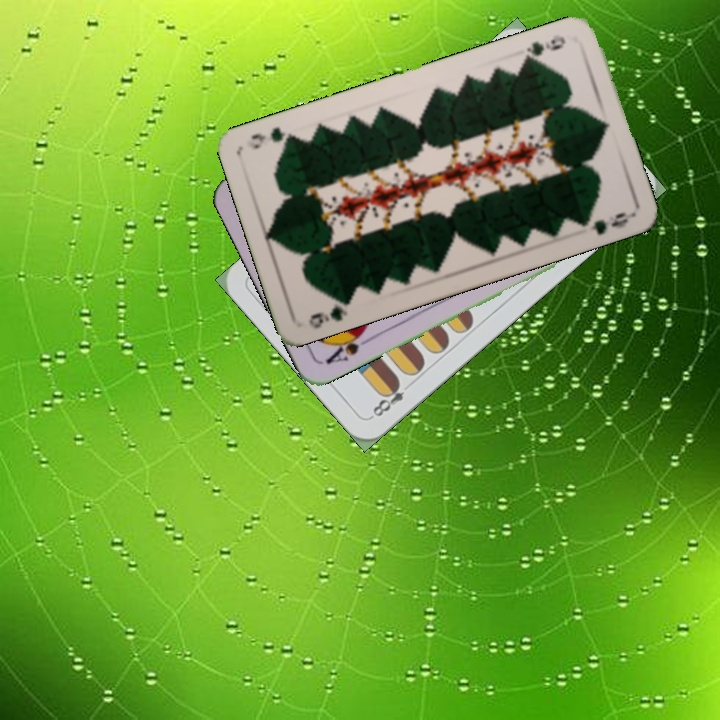E8: (367, 376, 408, 421)
G9: (304, 292, 355, 332), (519, 31, 568, 66)
SA: (321, 324, 376, 367)
